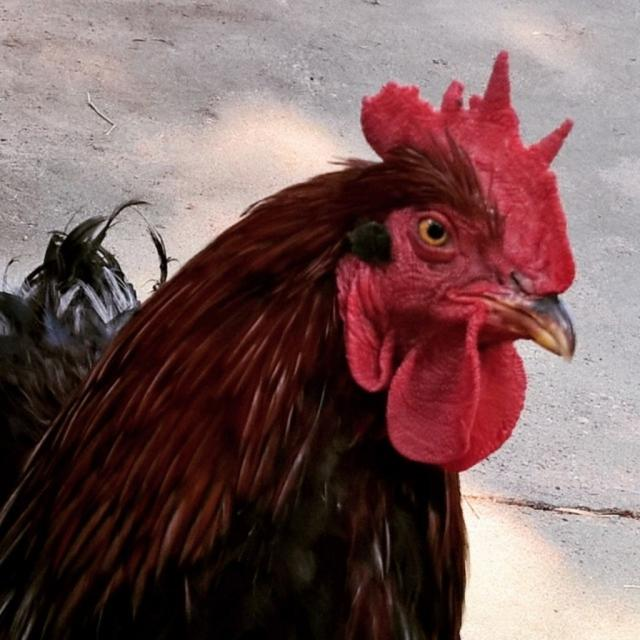Chicken: (0, 50, 578, 640)
